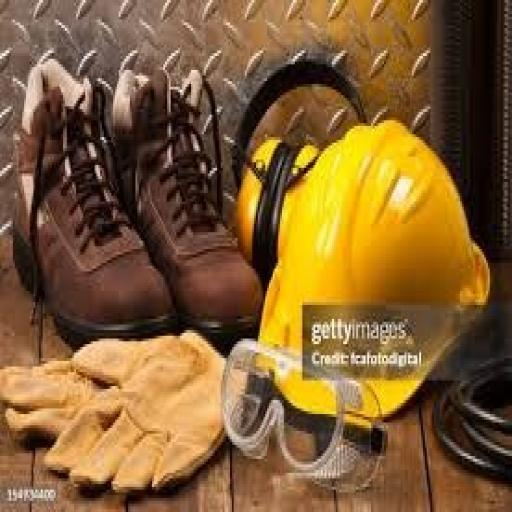safety_boots: (10, 55, 157, 331), (116, 46, 268, 310)
